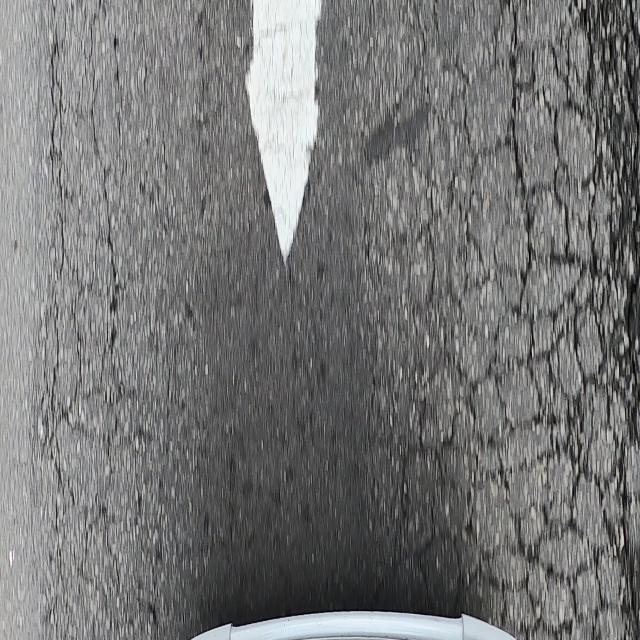Retak-Buaya: (384, 0, 640, 640), (47, 0, 125, 602)
